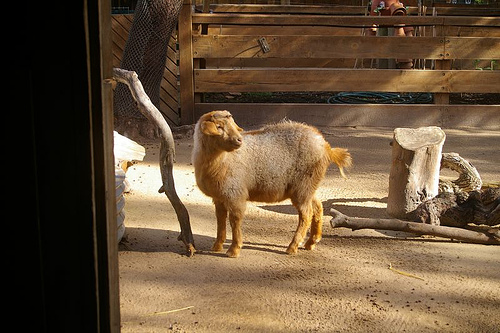goat: (192, 109, 354, 259)
